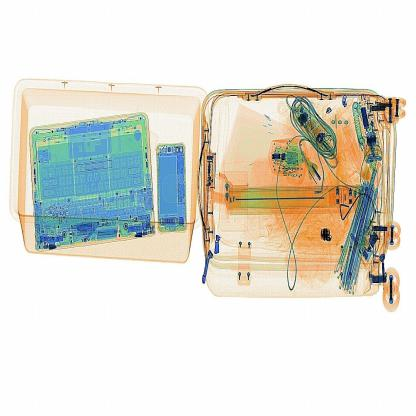scissors: (320, 223, 335, 247)
